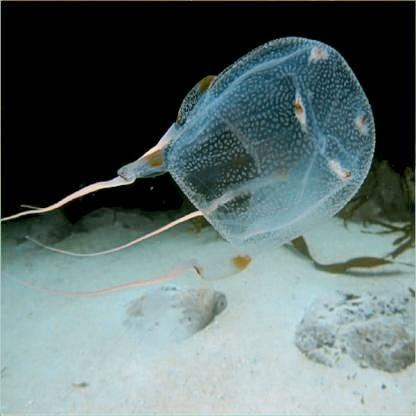Comb: (21, 37, 371, 289)
